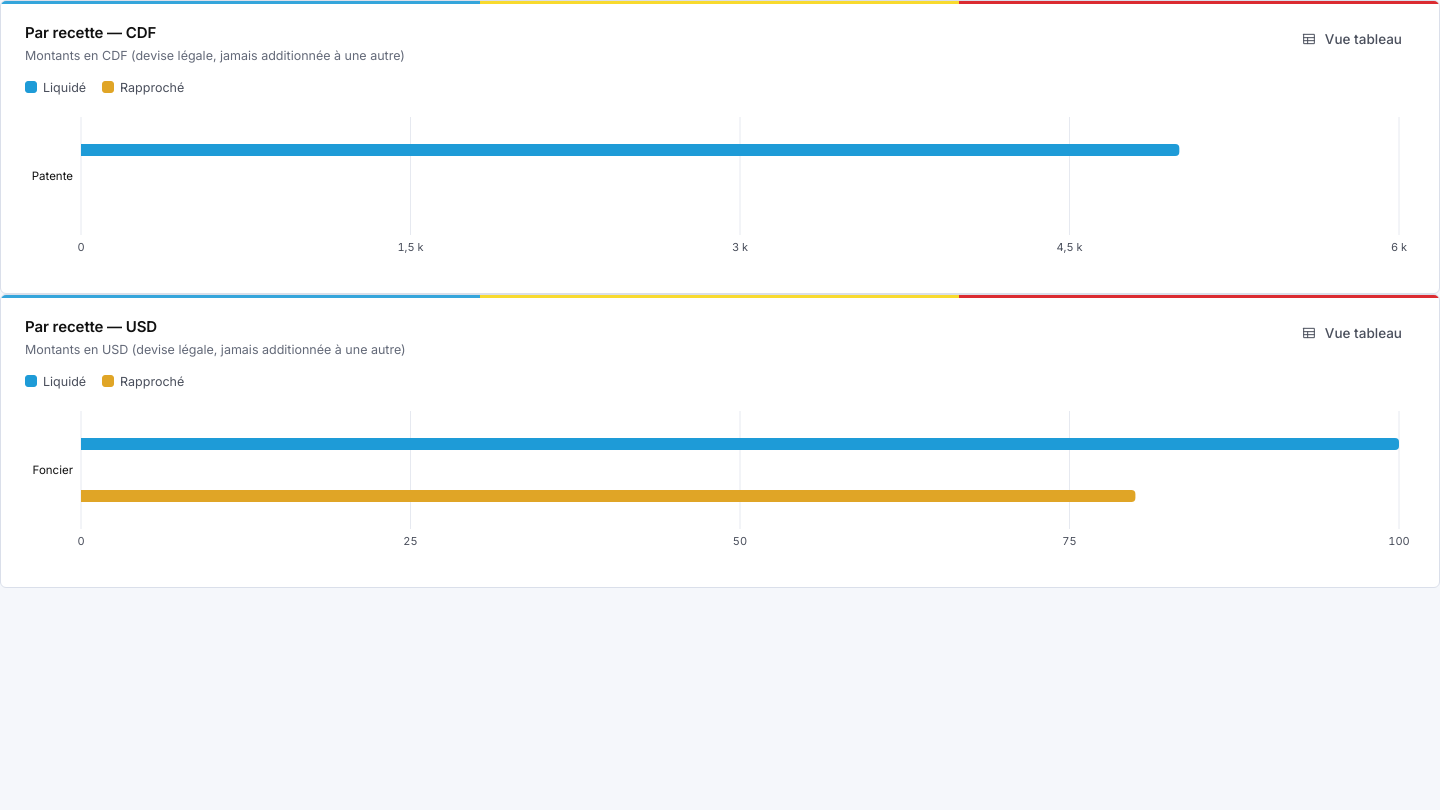
Test case: graphiques du périmètre › barres par devise : un graphique par devise, vue tableau ; état vide sans montant
The width and height of the screenshot is (1440, 810).
Check: the heading "Par recette — CDF" is shown, box [25, 23, 156, 42]
Check: the heading "Par recette — USD" is shown, box [25, 317, 157, 336]
Click the button "Vue tableau" in the row of "Par recette — CDF". click: (1351, 39)
box: [1288, 21, 1415, 57]
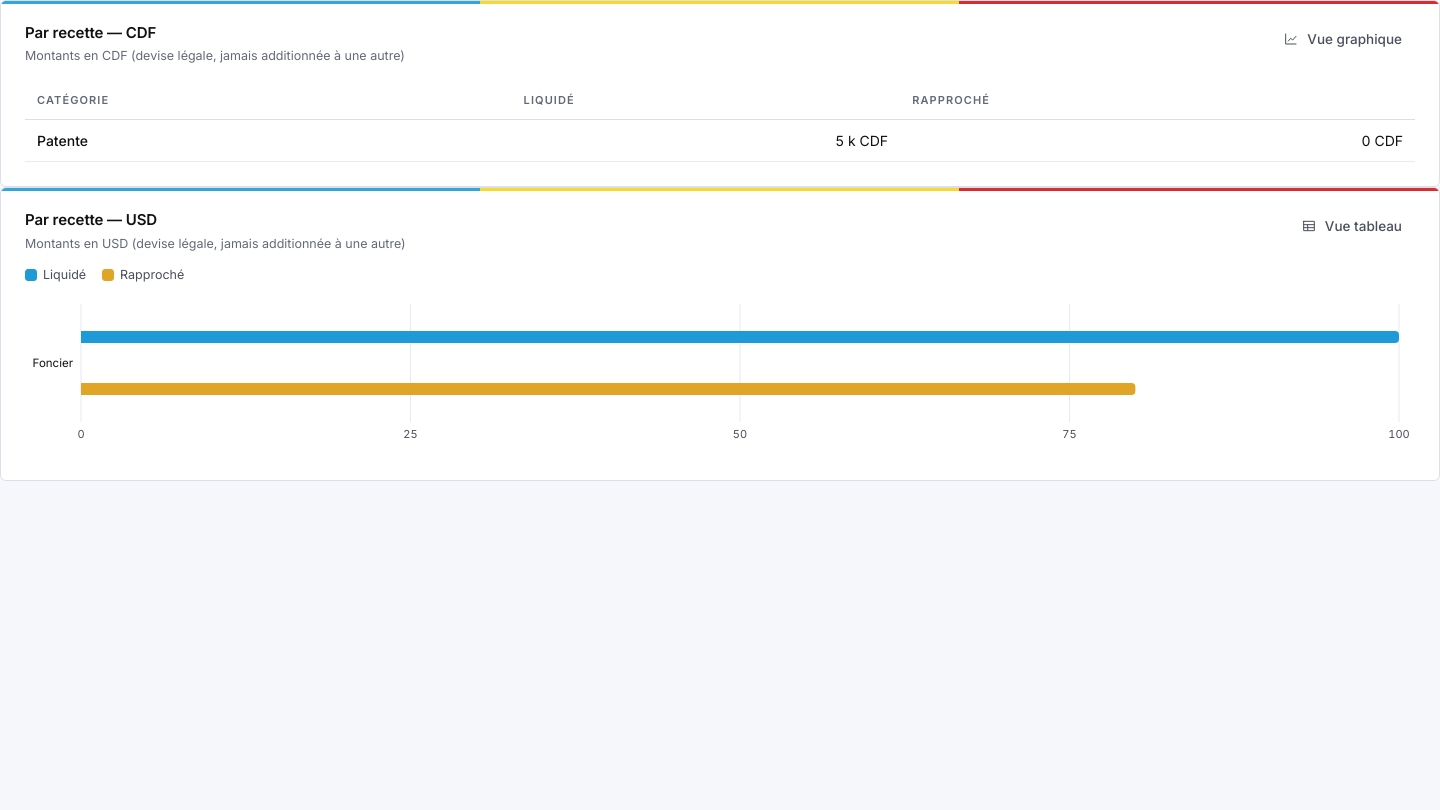
Check: the table is shown, box [25, 82, 1415, 162]
